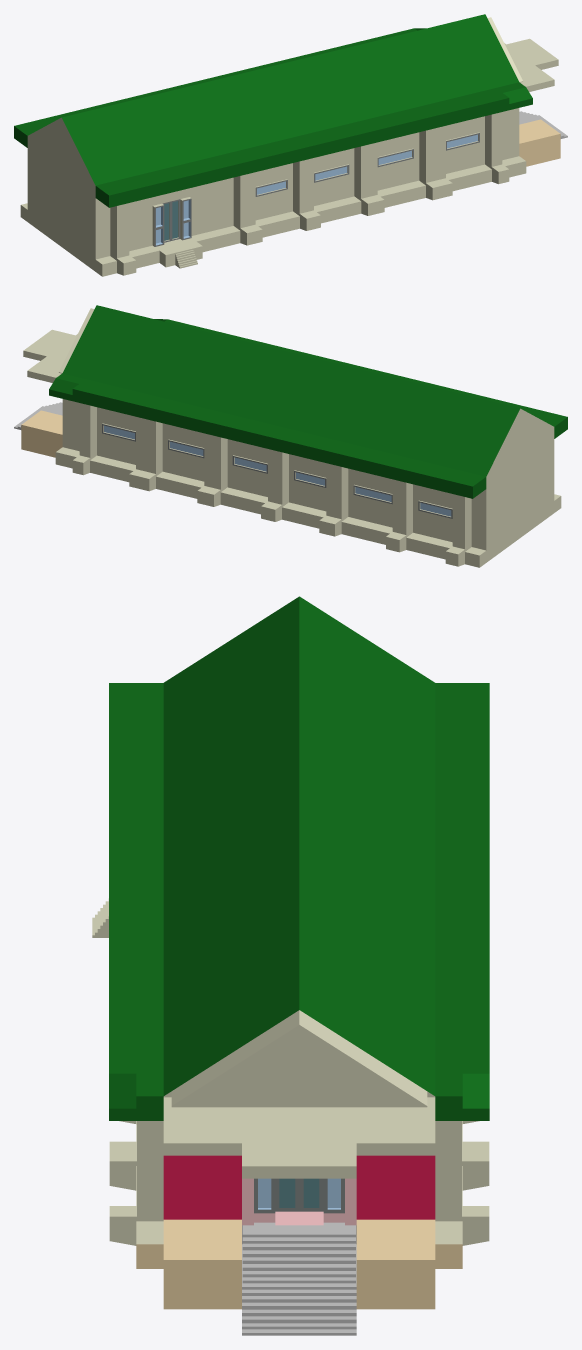
Rendered from xprtLibrary.fbx.
3 views of the same model, one above another, from view 1: azimuth 30°, elevation 25°; view 2: azimuth 150°, elevation 25°; view 3: azimuth 270°, elevation 25° (orthographic). The views are drawn at different scales.
Visible parts, largest first — view 1: Cube; view 2: Cube; view 3: Cube.
Part boxes in pixels (left/top/right/bottom): Cube: left=14, top=14, right=567, bottom=276; Cube: left=14, top=305, right=567, bottom=567; Cube: left=92, top=596, right=489, bottom=1335.
Bounding box in the file's own units: 4180 × 1051 × 1462.
